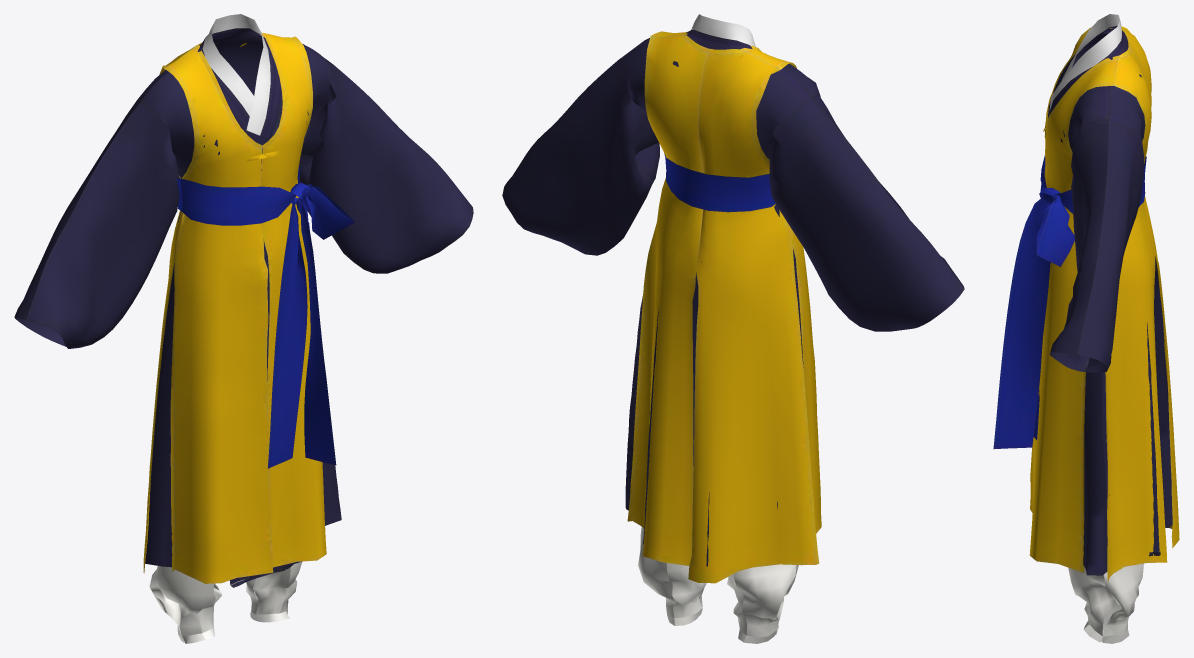
Rendered from cl_daechwita.glb.
3 renders of one model, left to right at view 1: azimuth 30°, elevation 25°; view 2: azimuth 150°, elevation 25°; view 3: azimuth 270°, elevation 25°, orthographic. The views are drawn at different scales.
Parts seen in each view (by area): view 1: dancwita_lambert2_0; view 2: dancwita_lambert2_0; view 3: dancwita_lambert2_0.
Boxes of the visible parts, box(x1,y1,x2,y2) form: dancwita_lambert2_0: box(14, 14, 473, 643); dancwita_lambert2_0: box(502, 14, 964, 643); dancwita_lambert2_0: box(993, 14, 1179, 643).
Size of the model in its own units: 1.24 by 1.6 by 0.4491.
1 material, 1 textured.
